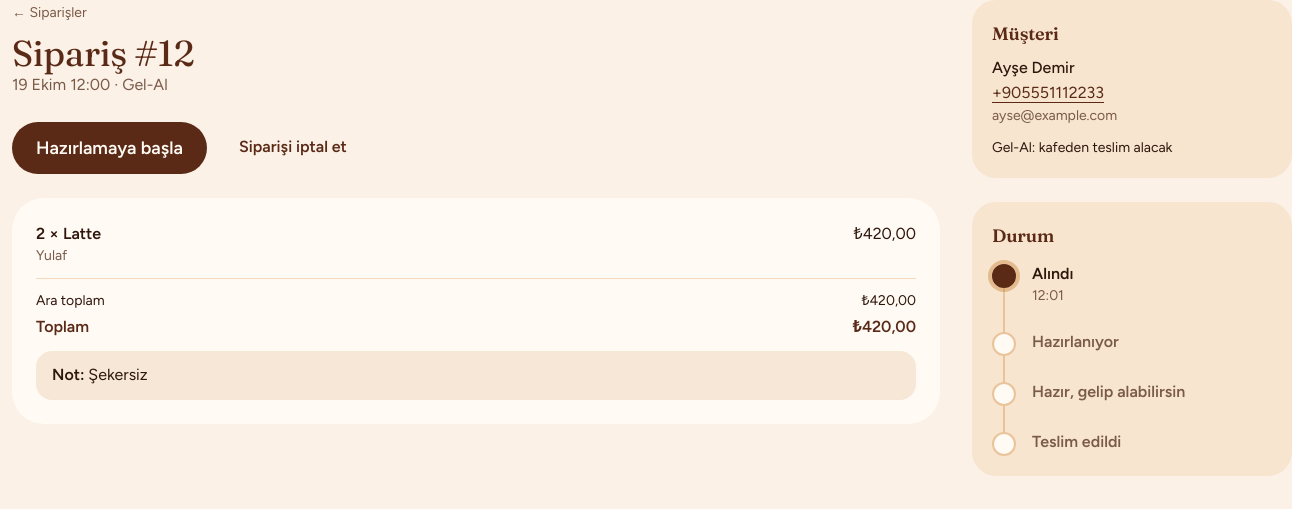
AdminOrderDetailPage › explains a conflict and reloads the order
What coordinates should you click on to do the following:
click the button "Hazırlamaya başla"
I would click on:
 (110, 148)
Its box is [12,122,207,174].
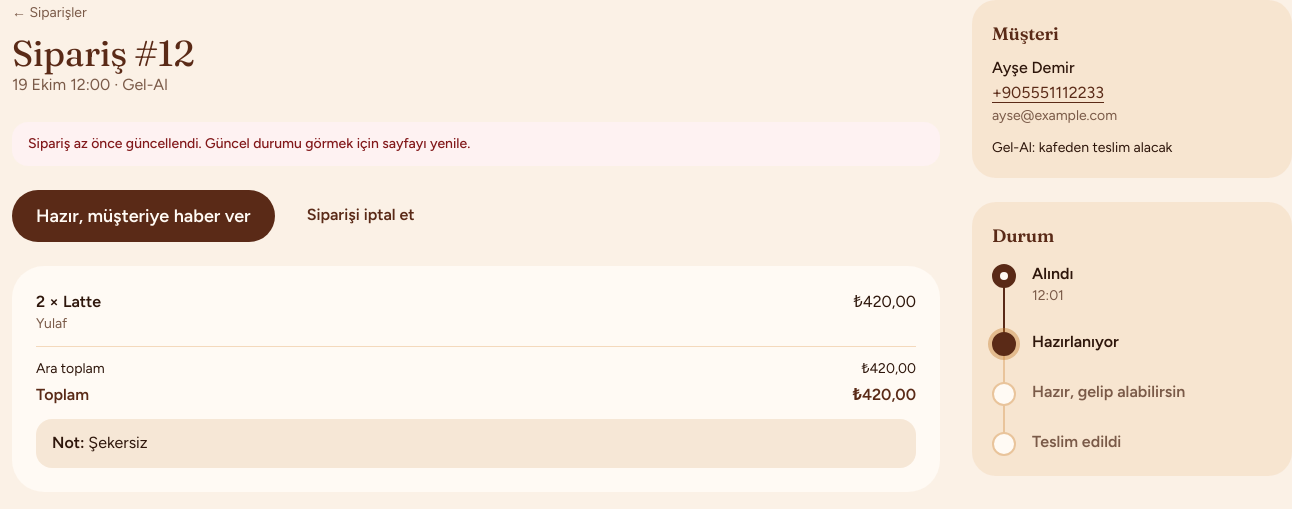
Expected: the message shows "Sipariş az önce güncellendi", [28,135,470,152]
Expected: the button "Hazır, müşteriye haber ver" is shown, [12,190,275,242]
